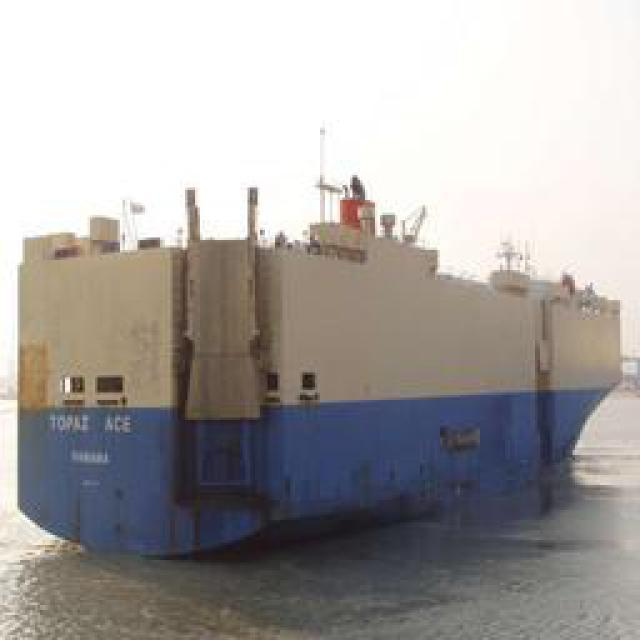Ship: (12, 116, 626, 560)
